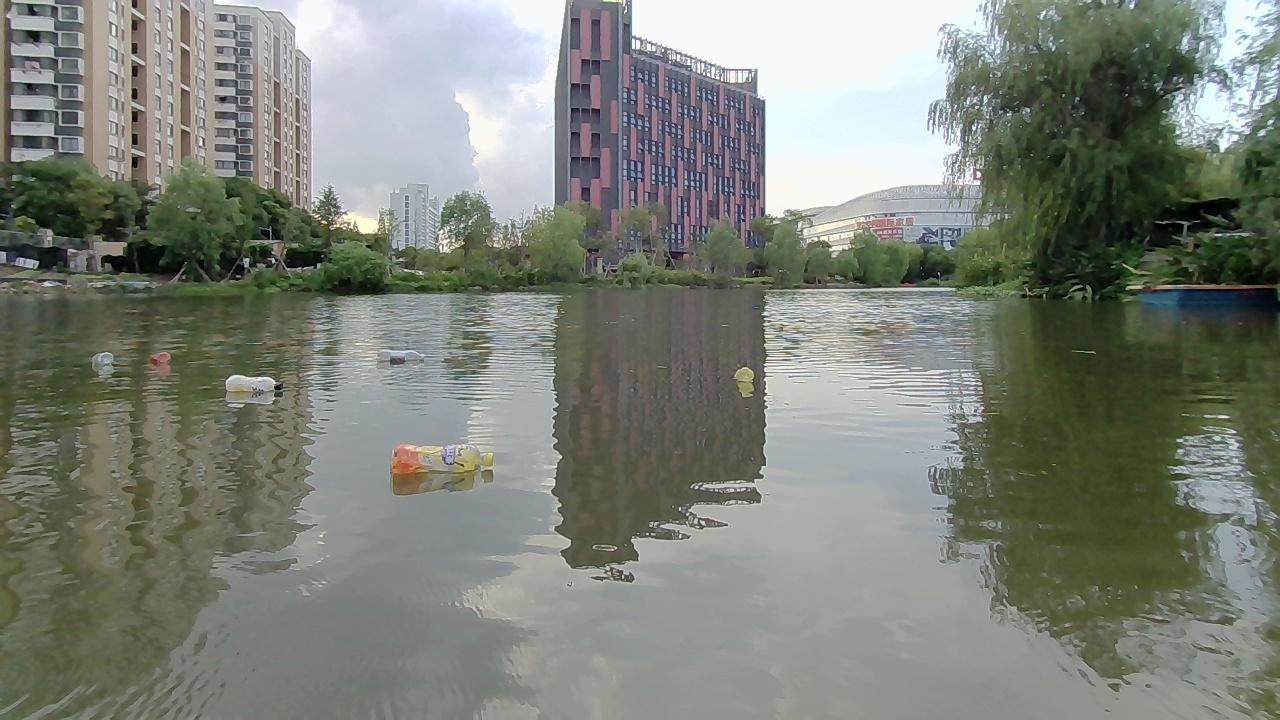bottle: (388, 442, 496, 480), (218, 369, 286, 396), (369, 345, 436, 369), (90, 349, 116, 368), (733, 364, 754, 387), (147, 349, 171, 365)
